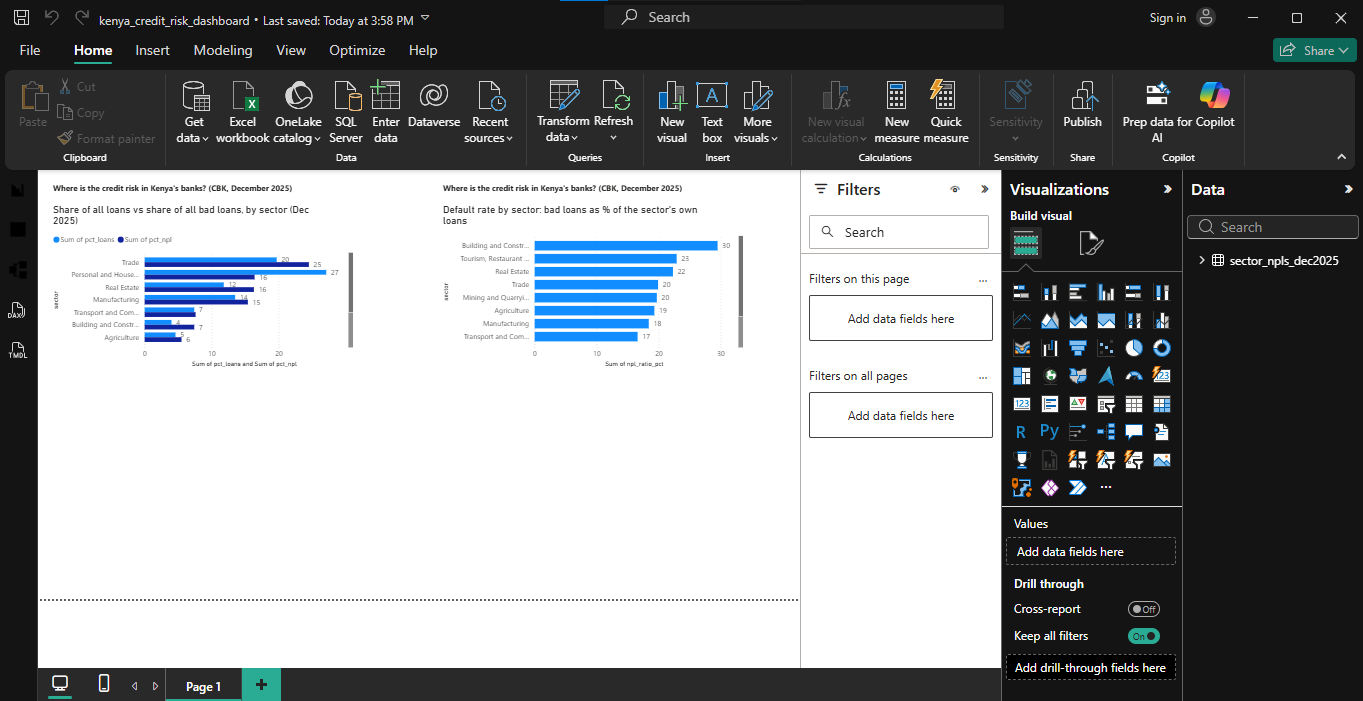

The dashboard page shown, as its layout file describes it:
{"tool":"powerbi","page":{"name":"Page 1","canvas":[1280,720],"ordinal":0},"visuals":[{"type":"clusteredBarChart","title":"Share of all loans vs share of all bad loans, by sector (Dec 2025)","fields":{"Category":["sector_npls_dec2025.sector"],"Y":["Sum(sector_npls_dec2025.pct_loans)","Sum(sector_npls_dec2025.pct_npl)"]},"box":[20.6,55.8,514.3,280.7],"z":0},{"type":"clusteredBarChart","title":"Default rate by sector: bad loans as % of the sector''s own loans","fields":{"Category":["sector_npls_dec2025.sector"],"Y":["Sum(sector_npls_dec2025.npl_ratio_pct)"]},"box":[675.9,55.8,514.3,280.7],"z":1},{"type":"textbox","box":[20.6,17.6,458.4,38.2],"z":2},{"type":"textbox","box":[675.9,17.6,514.3,38.2],"z":3}]}

Visuals, with their boxes on the page's 1280x720 design canvas (x1, y1, x2, y2). These are canvas units, not pixel positions in the 1363x701 screenshot, which may show the page scaled, cropped or inside an application window:
"Share of all loans vs share of all bad loans, by sector (Dec 2025)" clusteredBarChart: bbox=(21, 56, 535, 336)
"Default rate by sector: bad loans as % of the sector''s own loans" clusteredBarChart: bbox=(676, 56, 1190, 336)
textbox: bbox=(21, 18, 479, 56)
textbox: bbox=(676, 18, 1190, 56)
